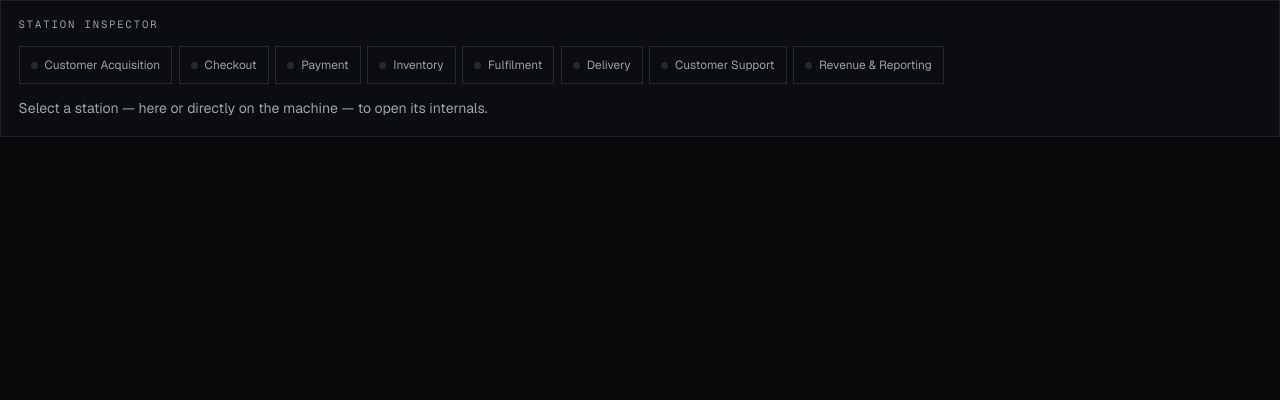
Test: NodeInspector › selects a station and shows its live internals
Step 1. Click the button "Fulfilment" → click(508, 65), box x1=462 y1=46 x2=554 y2=84
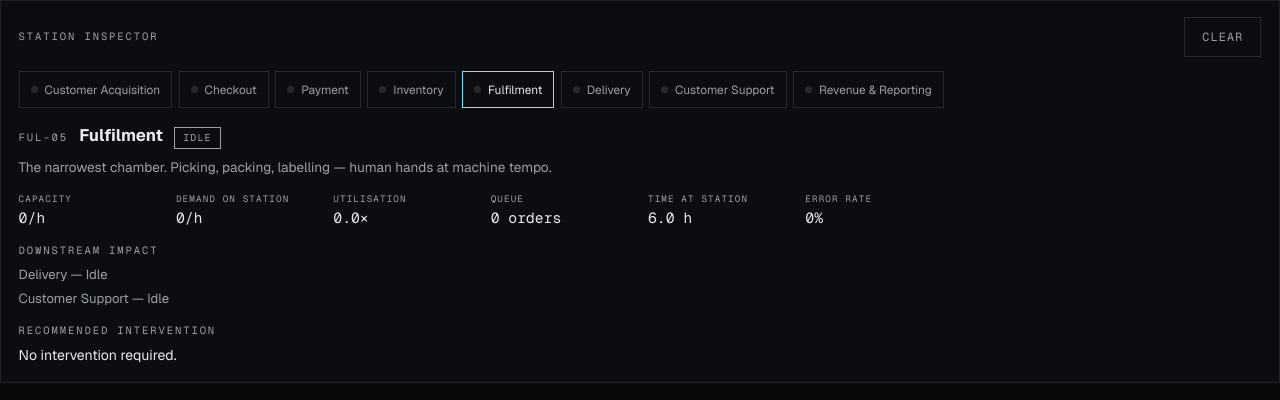
Expected: the text "FUL-05" is shown, x1=19 y1=130 x2=68 y2=145
Expected: the text "Recommended intervention" is shown, x1=19 y1=323 x2=216 y2=337
Expected: the text "Downstream impact" is shown, x1=19 y1=243 x2=158 y2=257
